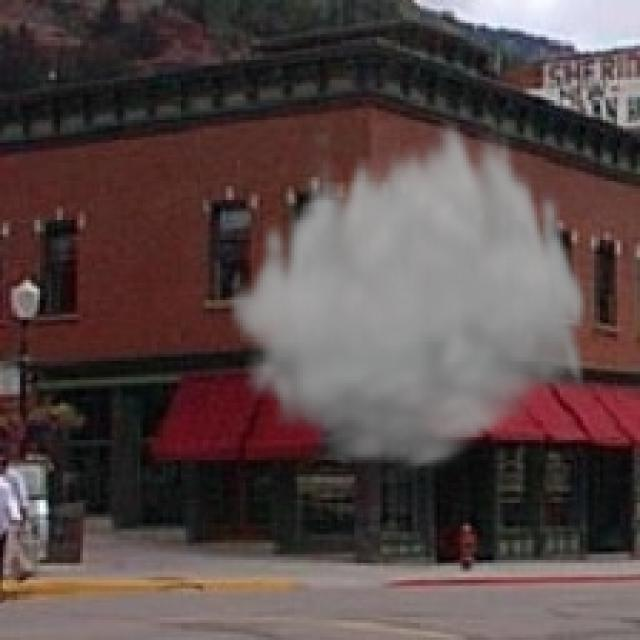smoke: (223, 106, 591, 477)
